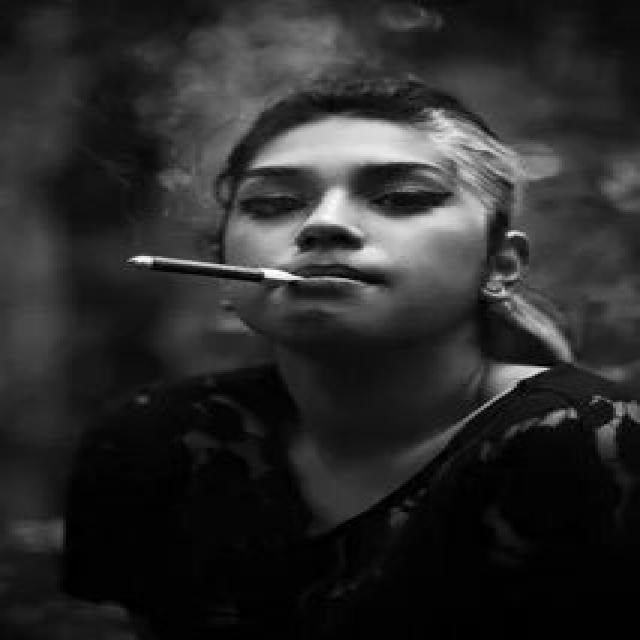cigarette: (126, 250, 307, 296)
